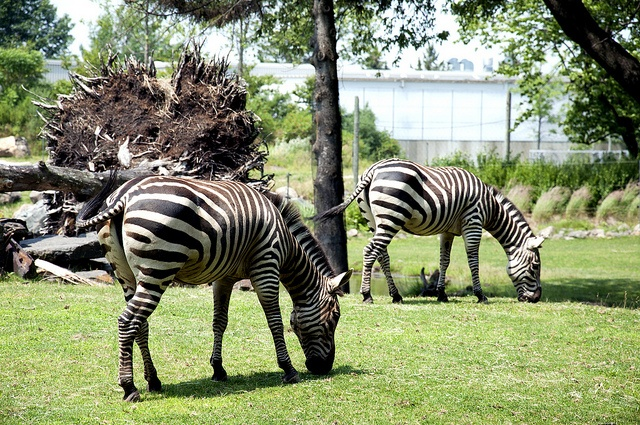zebra: (73, 175, 351, 404), (311, 155, 548, 303)
